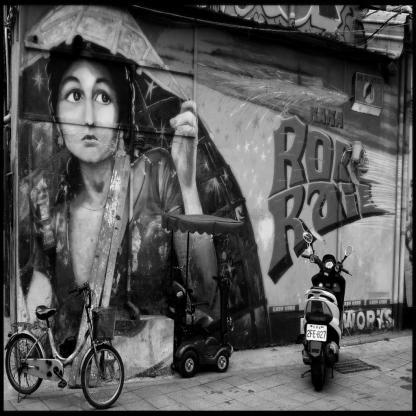moto: (273, 237, 376, 398)
